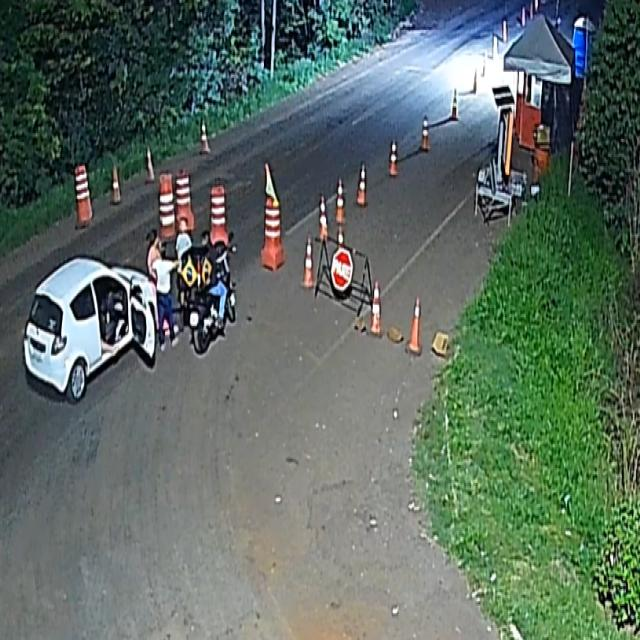big_cone: (262, 198, 282, 272), (209, 183, 228, 247), (158, 173, 176, 240), (175, 172, 194, 234), (74, 164, 91, 229)
small_cone: (406, 296, 422, 354), (370, 280, 382, 336), (303, 233, 313, 292), (356, 162, 368, 206), (335, 178, 346, 224), (318, 197, 329, 241), (111, 164, 122, 203), (144, 146, 154, 182), (200, 120, 211, 152), (420, 118, 430, 152), (388, 145, 398, 176), (451, 89, 458, 119)
stop_sign: (330, 247, 354, 293)
